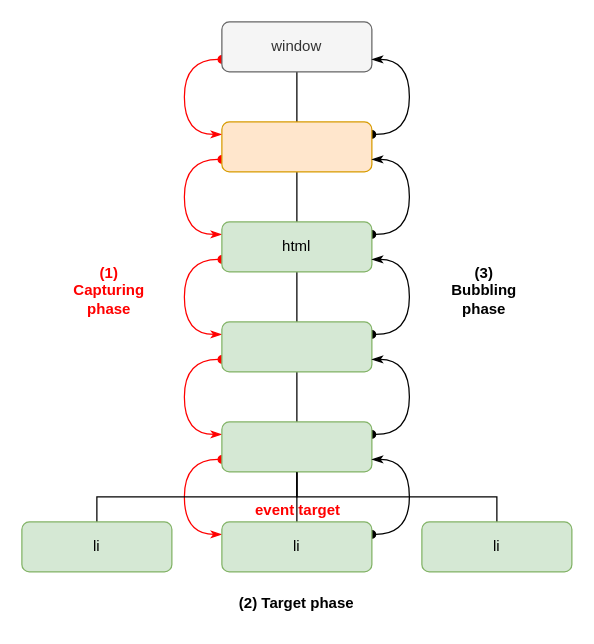
This 594x644 diagram has some shape labels left out. Each missing label, with the box of its shape:
body: (221, 321, 372, 372)
document: (221, 121, 372, 172)
ul: (221, 421, 372, 472)
